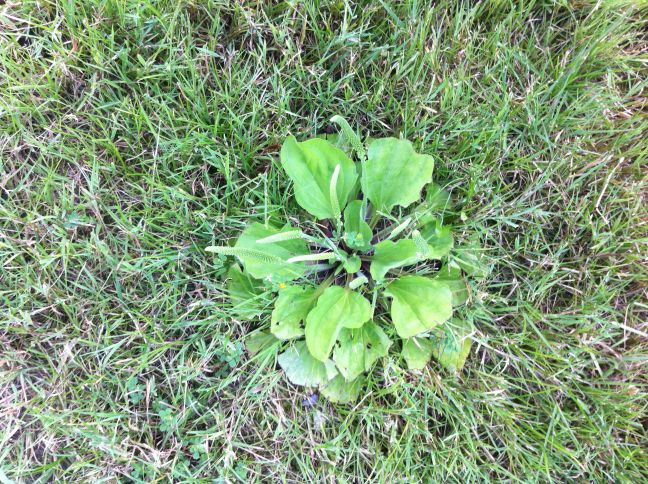weed1: (226, 129, 478, 403)
